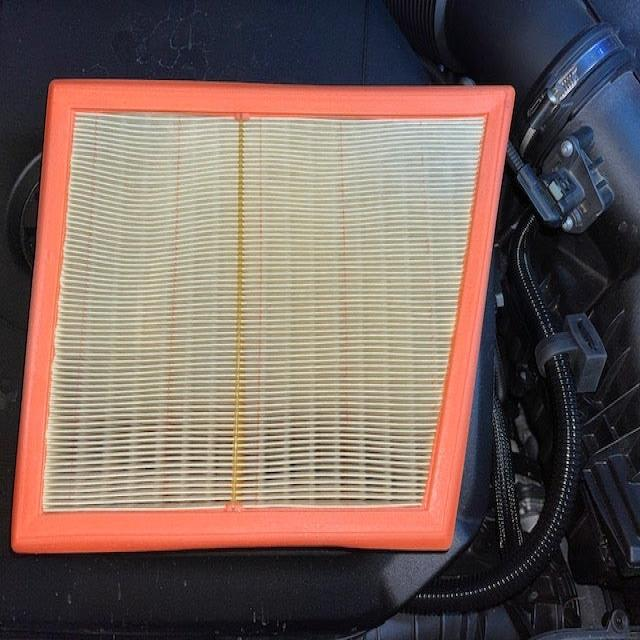air_filter: (0, 81, 519, 558)
